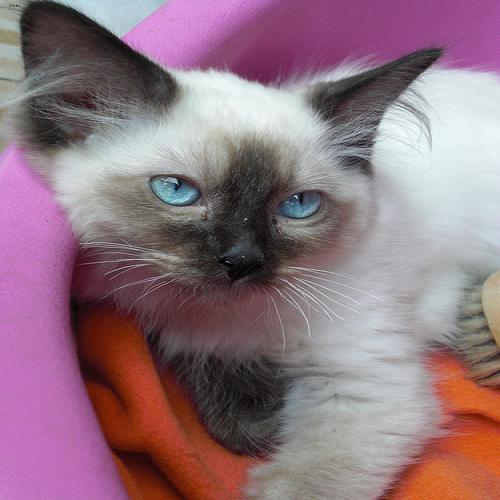ragdoll: (1, 1, 445, 315)
